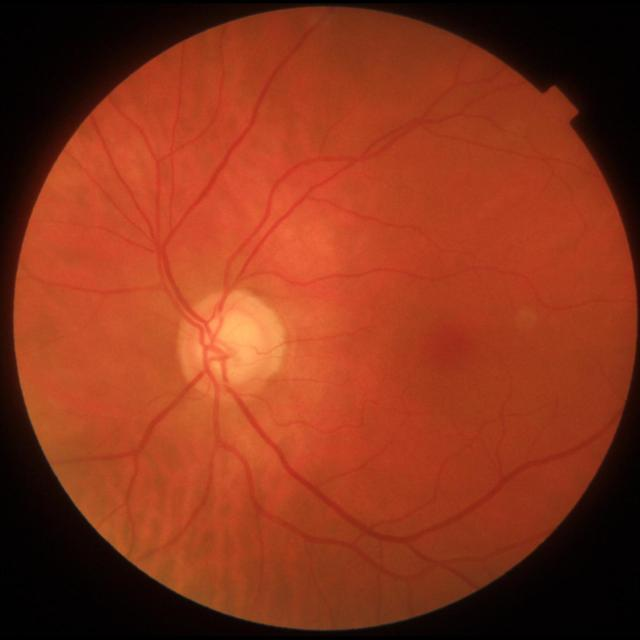OC: (200, 308, 267, 387)
OD: (176, 292, 284, 398)
